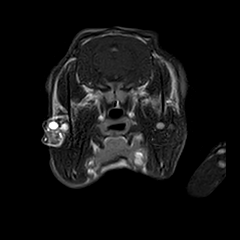Brain: (65, 4, 164, 102)
